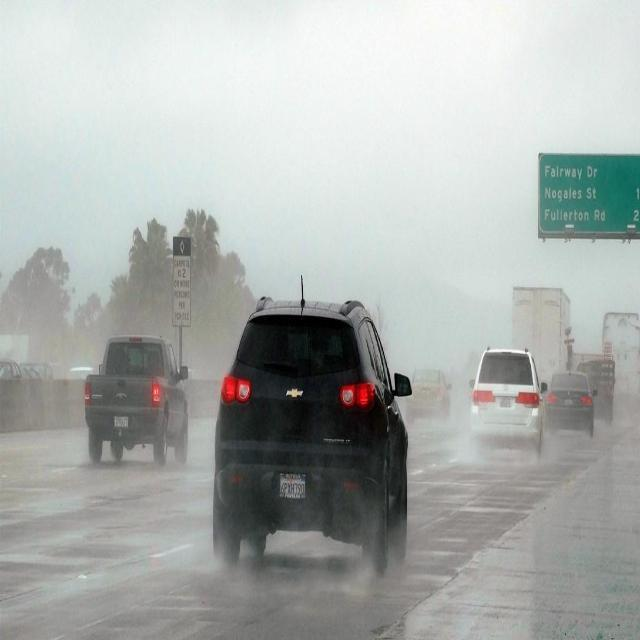car: (210, 272, 412, 570), (82, 332, 188, 465), (468, 346, 548, 452), (542, 367, 598, 437), (403, 366, 452, 424)
